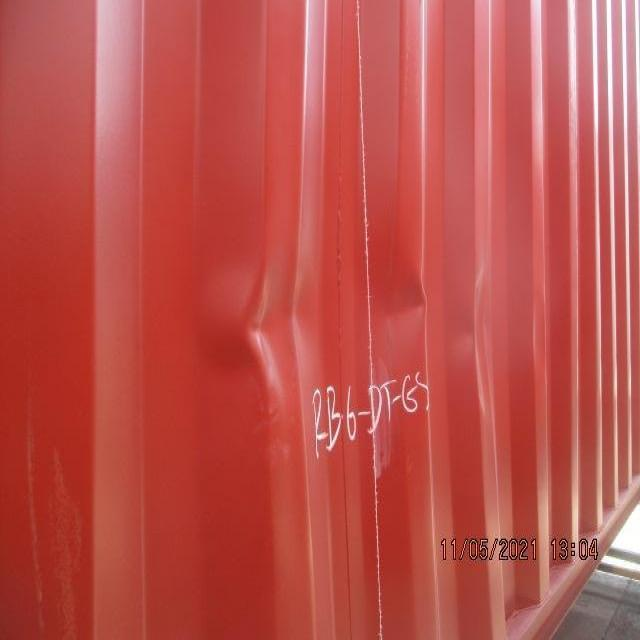dent: (138, 208, 516, 488)
